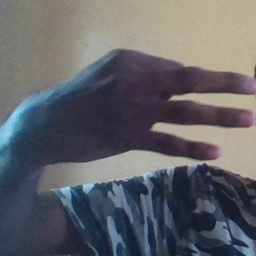K: (30, 48, 256, 175)
